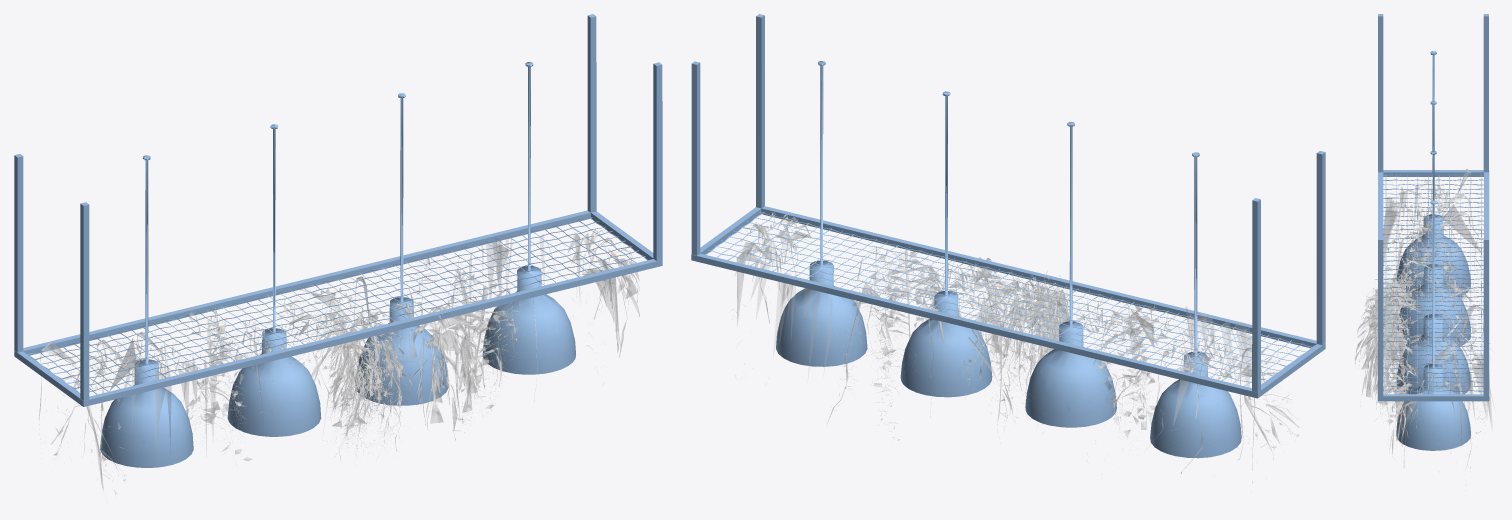
File: plant-pendant.glb
The picture shows the model from 3 angles, left to right: view 1: azimuth 30°, elevation 25°; view 2: azimuth 150°, elevation 25°; view 3: azimuth 270°, elevation 25°; orthographic projection. The views are drawn at different scales.
Parts seen in each view (by area): view 1: plant-pendant_wire_088144225, plant-pendant_wire_204204204; view 2: plant-pendant_wire_088144225, plant-pendant_wire_204204204; view 3: plant-pendant_wire_088144225, plant-pendant_wire_204204204.
Boxes of the visible parts, x1,y1,x2,y2 form: plant-pendant_wire_088144225: (14,14,662,467); plant-pendant_wire_204204204: (39,229,639,494); plant-pendant_wire_088144225: (691,14,1325,458); plant-pendant_wire_204204204: (734,212,1299,473); plant-pendant_wire_088144225: (1378,14,1489,450); plant-pendant_wire_204204204: (1354,169,1492,467).
Size of the model in its own units: 2.01 by 1.17 by 0.5337.
